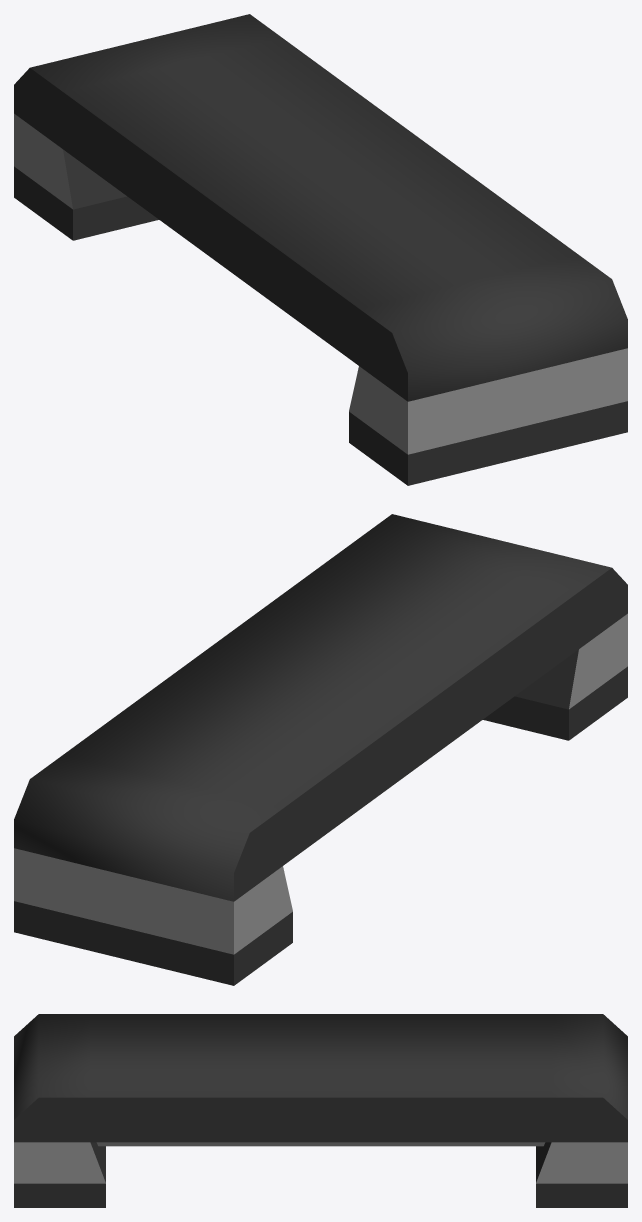
Rendered from flat-bench.glb.
3 renders of one model, top to bottom at view 1: azimuth 30°, elevation 25°; view 2: azimuth 150°, elevation 25°; view 3: azimuth 270°, elevation 25°, orthographic. The views are drawn at different scales.
Parts seen in each view (by area): view 1: Flat_Bench; view 2: Flat_Bench; view 3: Flat_Bench.
Part boxes in pixels (bbox=[...]): Flat_Bench: bbox=[14, 14, 627, 485]; Flat_Bench: bbox=[14, 514, 627, 985]; Flat_Bench: bbox=[14, 1014, 627, 1207].
Bounding box in the file's own units: 31.59 × 19.41 × 98.
1 material, 1 textured.
